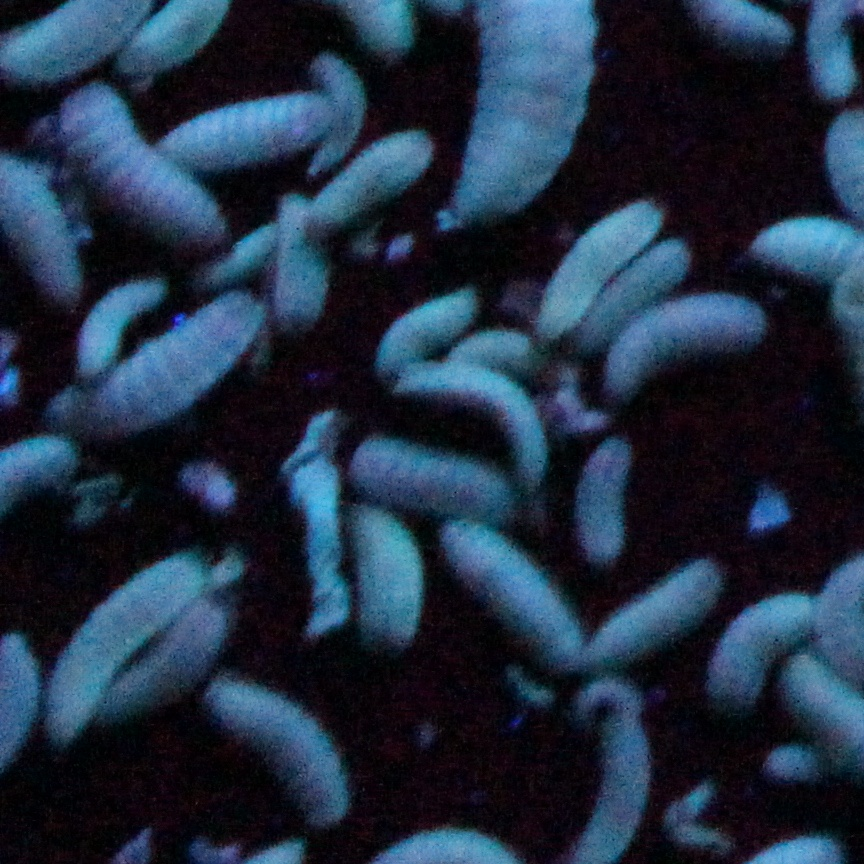larve: (64, 296, 260, 435), (43, 555, 184, 732), (59, 92, 206, 249), (210, 675, 353, 829), (404, 366, 565, 489), (451, 527, 573, 652), (588, 560, 720, 666), (543, 201, 652, 321), (360, 442, 510, 521), (315, 139, 431, 235), (122, 610, 228, 715), (707, 593, 813, 696), (618, 302, 753, 382), (352, 508, 422, 655), (356, 276, 465, 370), (585, 702, 644, 858), (590, 252, 684, 339), (271, 198, 330, 330), (75, 280, 162, 365), (159, 110, 317, 154), (579, 441, 629, 559), (310, 58, 362, 168)
